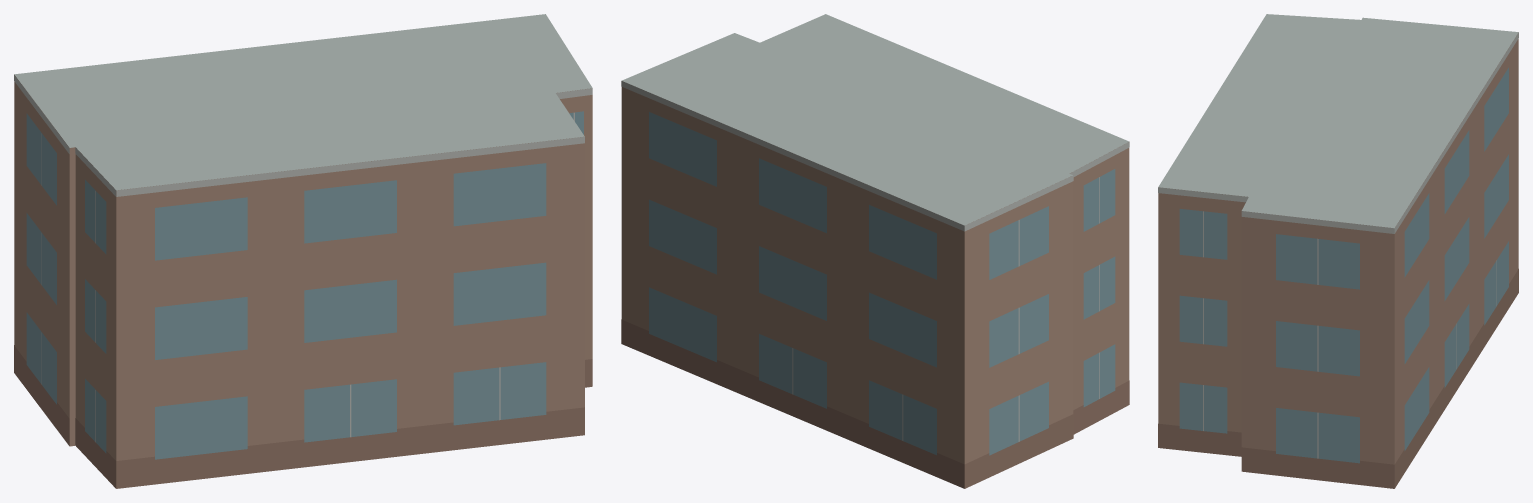
Rendered from survey-upis-32658886.glb.
3 renders of one model, left to right at view 1: azimuth 30°, elevation 25°; view 2: azimuth 150°, elevation 25°; view 3: azimuth 270°, elevation 25°, orthographic. The views are drawn at different scales.
Parts seen in each view (by area): view 1: survey-upis-32658886.tmp; view 2: survey-upis-32658886.tmp; view 3: survey-upis-32658886.tmp.
Boxes of the visible parts, bbox=[...] form: survey-upis-32658886.tmp: bbox=[14, 14, 592, 488]; survey-upis-32658886.tmp: bbox=[621, 14, 1129, 488]; survey-upis-32658886.tmp: bbox=[1158, 14, 1518, 488].
Size of the model in its own units: 19.22 by 10.9 by 13.68.
